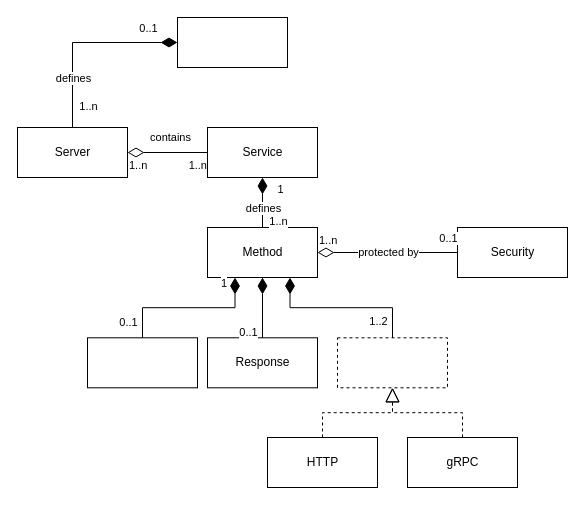
The diagram is 585 pixels wide and 505 high, and some of its shapes have lost their labels. Each missing label, with the box of its shape:
API: (176, 16, 288, 68)
Payload: (86, 337, 198, 388)
Transport: (336, 337, 448, 388)
